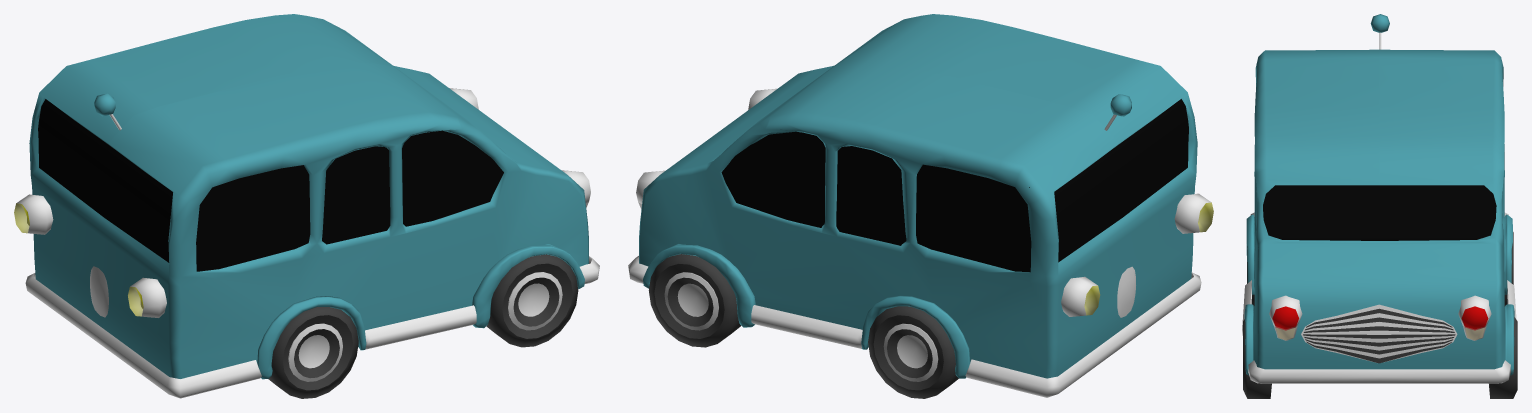
File: Van1.fbx
3 views of the same model, side by side, from view 1: azimuth 30°, elevation 25°; view 2: azimuth 150°, elevation 25°; view 3: azimuth 270°, elevation 25° (orthographic). The views are drawn at different scales.
Visible parts, largest first — view 1: Car1Body, polySurface62, polySurface66, polySurface60, car1trim, polySurface82, polySurface80, polySurface56, polySurface85; view 2: Car1Body, polySurface68, polySurface69, polySurface60, car1trim, polySurface80, polySurface82, polySurface56, polySurface85; view 3: Car1Body, polySurface65, polySurface71, car1trim1, polySurface85, polySurface69, polySurface66, car1trim, Car1Antenna.
Part boxes in pixels (x1=…): Car1Body: x1=29, y1=14, x2=588, y2=379; polySurface62: x1=196, y1=130, x2=503, y2=271; polySurface66: x1=268, y1=254, x2=578, y2=398; polySurface60: x1=38, y1=99, x2=172, y2=262; car1trim: x1=25, y1=273, x2=476, y2=398; polySurface82: x1=14, y1=194, x2=53, y2=234; polySurface80: x1=128, y1=277, x2=166, y2=317; polySurface56: x1=90, y1=266, x2=108, y2=317; polySurface85: x1=449, y1=88, x2=590, y2=207; Car1Body: x1=639, y1=14, x2=1197, y2=378; polySurface68: x1=721, y1=131, x2=1031, y2=272; polySurface69: x1=648, y1=254, x2=958, y2=398; polySurface60: x1=1054, y1=99, x2=1188, y2=262; car1trim: x1=751, y1=272, x2=1201, y2=397; polySurface80: x1=1174, y1=193, x2=1213, y2=233; polySurface82: x1=1061, y1=276, x2=1100, y2=316; polySurface56: x1=1117, y1=266, x2=1135, y2=317; polySurface85: x1=636, y1=88, x2=777, y2=209; Car1Body: x1=1244, y1=49, x2=1514, y2=375; polySurface65: x1=1263, y1=185, x2=1496, y2=240; polySurface71: x1=1301, y1=304, x2=1457, y2=363; car1trim1: x1=1248, y1=360, x2=1510, y2=383; polySurface85: x1=1269, y1=295, x2=1491, y2=340; polySurface69: x1=1489, y1=232, x2=1517, y2=398; polySurface66: x1=1243, y1=246, x2=1271, y2=398; car1trim: x1=1242, y1=212, x2=1516, y2=335; Car1Antenna: x1=1370, y1=14, x2=1389, y2=49.
Bounding box in the file's own units: 7.18 × 4.23 × 4.46.
